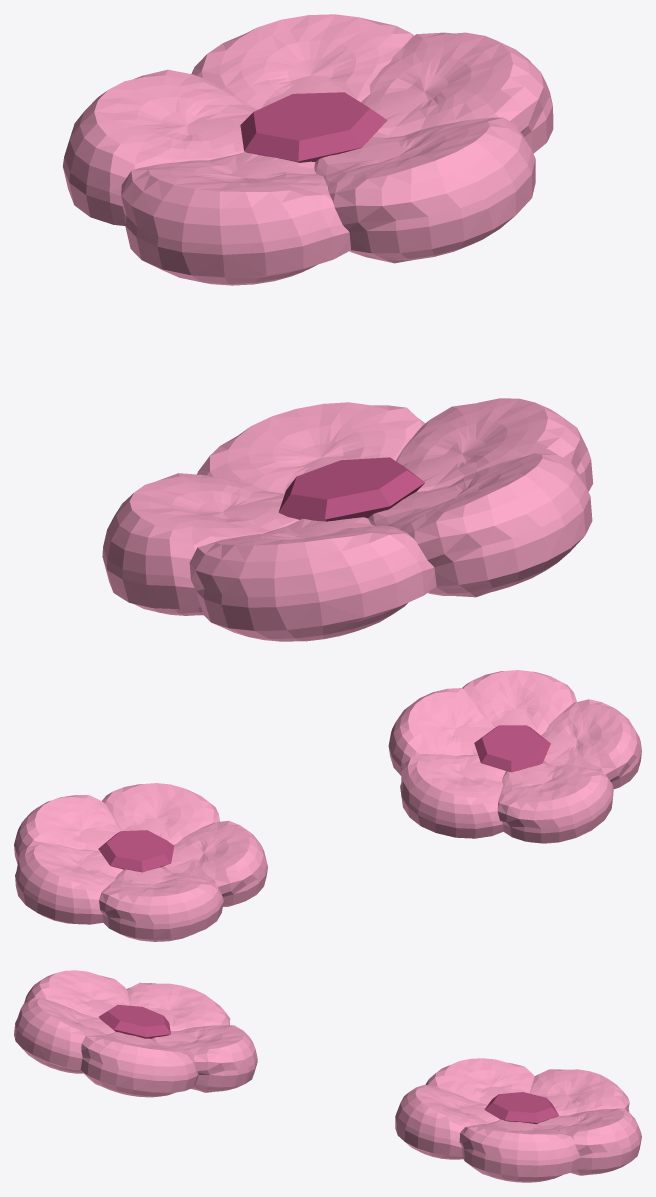
Rendered from Flor2.obj.
The picture shows the model from 3 angles, top to bottom: view 1: azimuth 30°, elevation 25°; view 2: azimuth 150°, elevation 25°; view 3: azimuth 270°, elevation 25°; orthographic projection. The views are drawn at different scales.
Visible parts, largest first — view 1: Sphere.014, Sphere.015, Cone.014, Cone.015; view 2: Sphere.015, Sphere.014, Cone.015, Cone.014; view 3: Sphere.014, Sphere.015, Cone.014, Cone.015.
Part boxes in pixels (x1=…): Sphere.014: x1=62, y1=14, x2=553, y2=285; Sphere.015: x1=102, y1=398, x2=593, y2=641; Cone.014: x1=240, y1=92, x2=387, y2=162; Cone.015: x1=278, y1=457, x2=424, y2=521; Sphere.015: x1=388, y1=670, x2=641, y2=843; Sphere.014: x1=14, y1=783, x2=267, y2=941; Cone.015: x1=474, y1=725, x2=550, y2=772; Cone.014: x1=98, y1=830, x2=174, y2=872; Sphere.014: x1=395, y1=1058, x2=641, y2=1182; Sphere.015: x1=14, y1=970, x2=257, y2=1097; Cone.014: x1=484, y1=1092, x2=558, y2=1124; Cone.015: x1=99, y1=1004, x2=170, y2=1038.
Size of the model in its own units: 2.9 by 0.6253 by 4.08.
